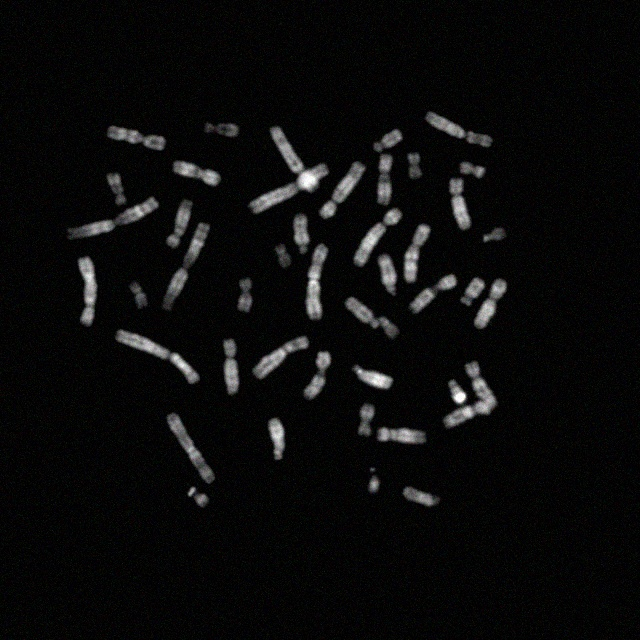chromosome: (114, 330, 200, 384), (66, 196, 160, 240), (248, 163, 329, 214), (162, 223, 210, 309), (166, 413, 214, 483), (269, 126, 319, 192), (354, 208, 402, 266), (320, 162, 364, 218), (424, 111, 492, 147), (252, 336, 310, 378), (444, 388, 501, 428), (410, 274, 458, 314), (305, 244, 329, 320), (474, 278, 508, 328), (404, 222, 431, 282), (165, 198, 192, 250), (303, 350, 331, 400), (77, 257, 97, 327), (107, 126, 165, 150), (172, 161, 222, 187), (344, 297, 380, 329), (450, 178, 472, 230), (352, 365, 392, 389), (376, 153, 394, 205), (223, 338, 239, 394), (378, 427, 427, 445), (377, 253, 397, 295), (402, 486, 440, 506), (268, 418, 286, 460), (461, 277, 485, 307), (465, 361, 487, 391), (107, 172, 127, 205), (293, 214, 309, 254), (373, 129, 402, 151), (237, 278, 253, 312), (358, 403, 374, 435), (130, 282, 148, 310), (188, 486, 210, 508), (378, 317, 400, 338), (205, 122, 238, 136), (448, 380, 467, 404), (459, 162, 485, 178), (274, 245, 292, 268), (484, 227, 506, 243), (408, 154, 422, 178), (368, 474, 380, 494)
